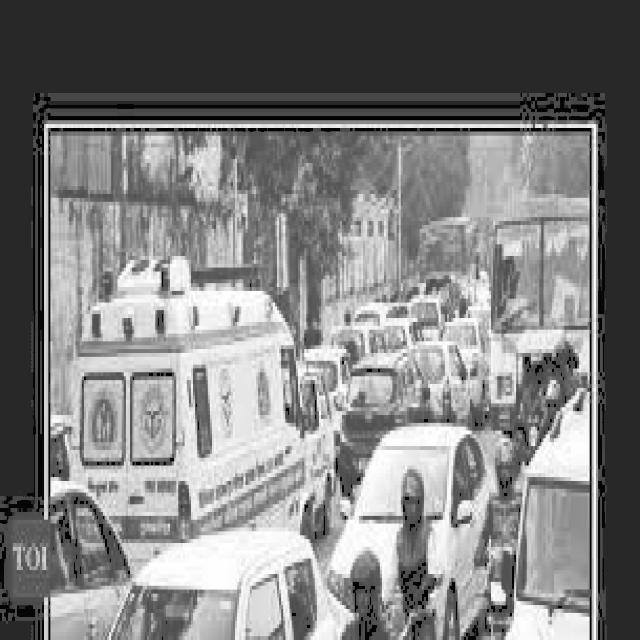Ambulance: (70, 262, 308, 545)
